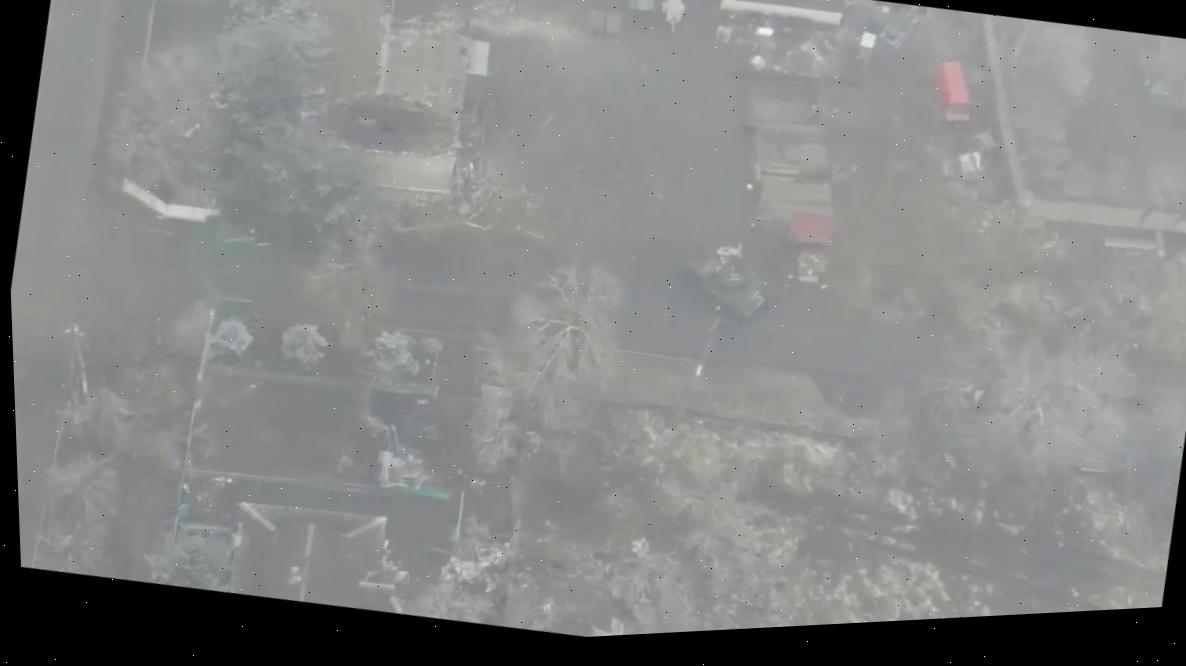tank: (670, 230, 781, 326)
